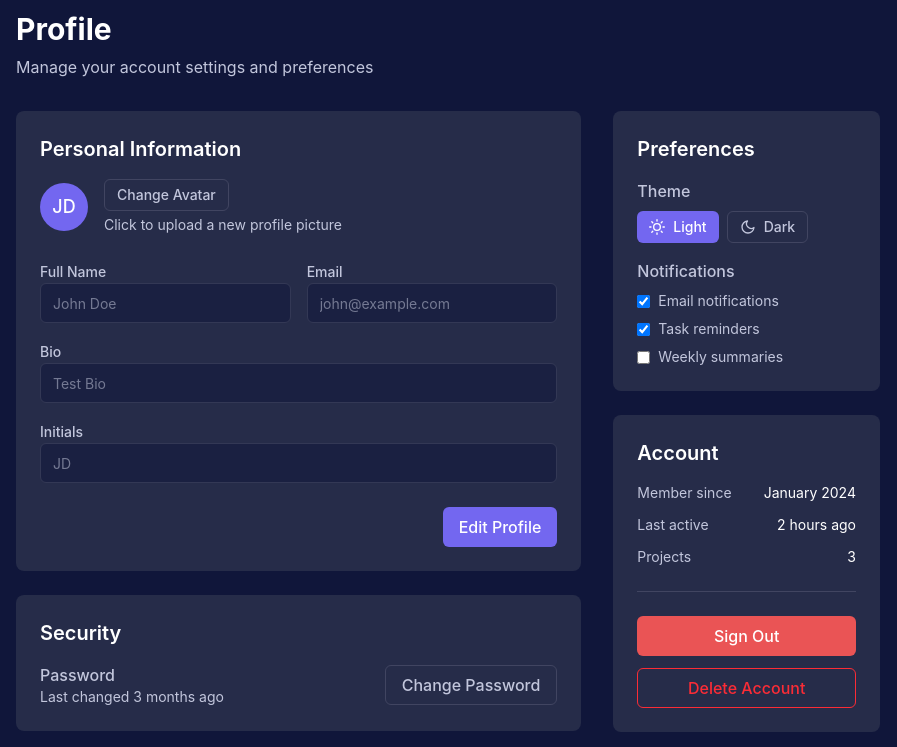
it: Profile › toggles edit mode
Expected: the field labelled "Full Name" is disabled, [40,283,291,323]
Click the button "Edit Profile". click: {"x": 500, "y": 527}
box: [443,507,557,547]
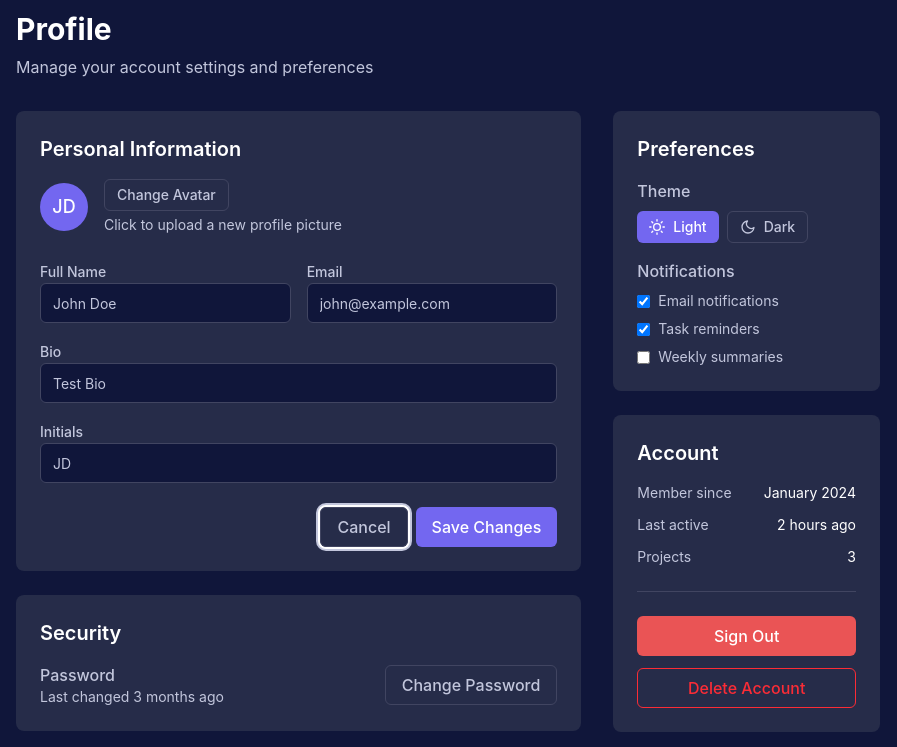
Expected: the field labelled "Full Name" is enabled, [40,283,291,323]
// Cancel reverts
Click the button "Cancel". click: {"x": 364, "y": 527}
box: [320,507,408,547]
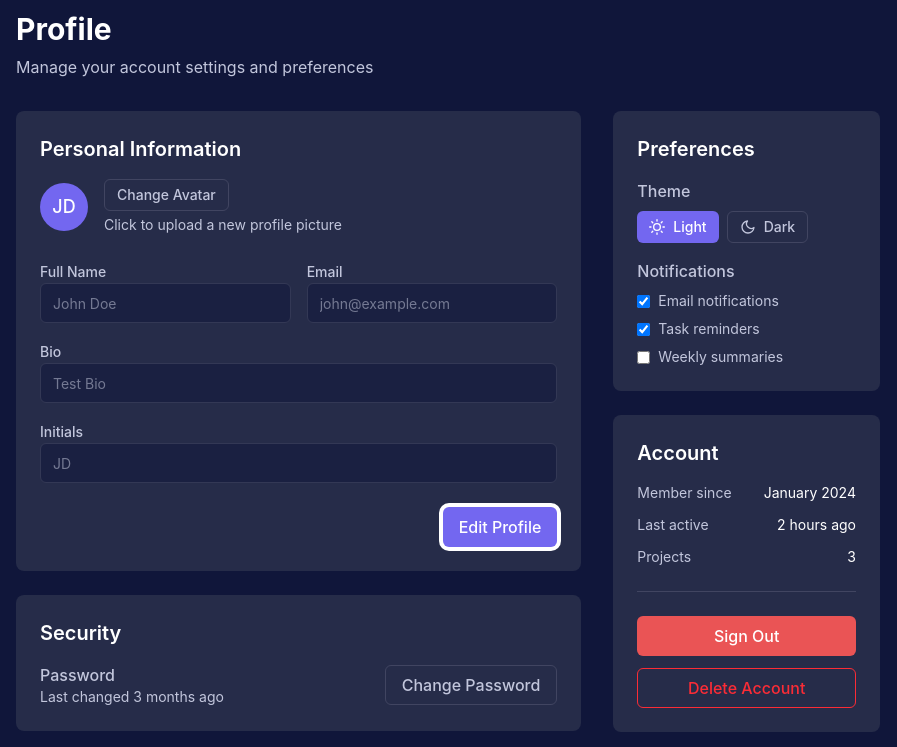
Expected: the field labelled "Full Name" is disabled, [40,283,291,323]
